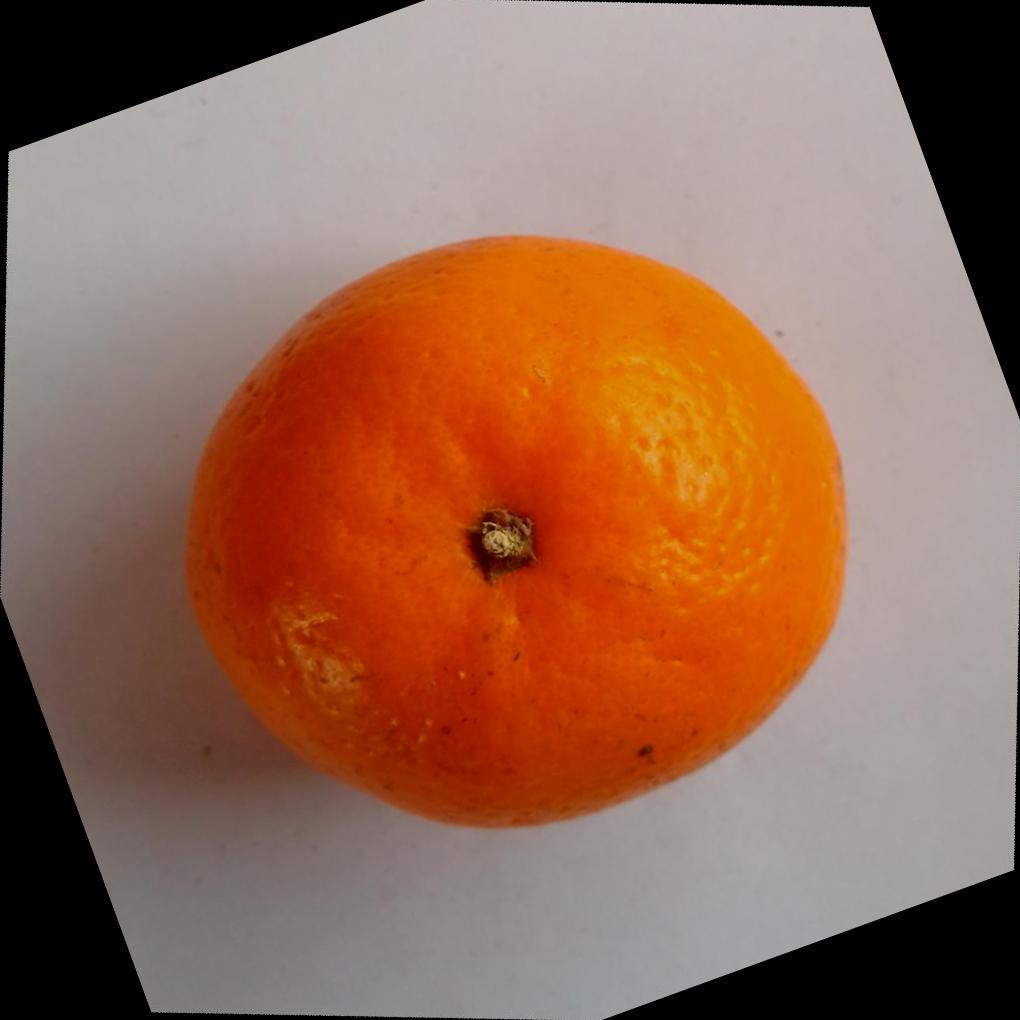FreshGuava: (180, 227, 846, 827)
